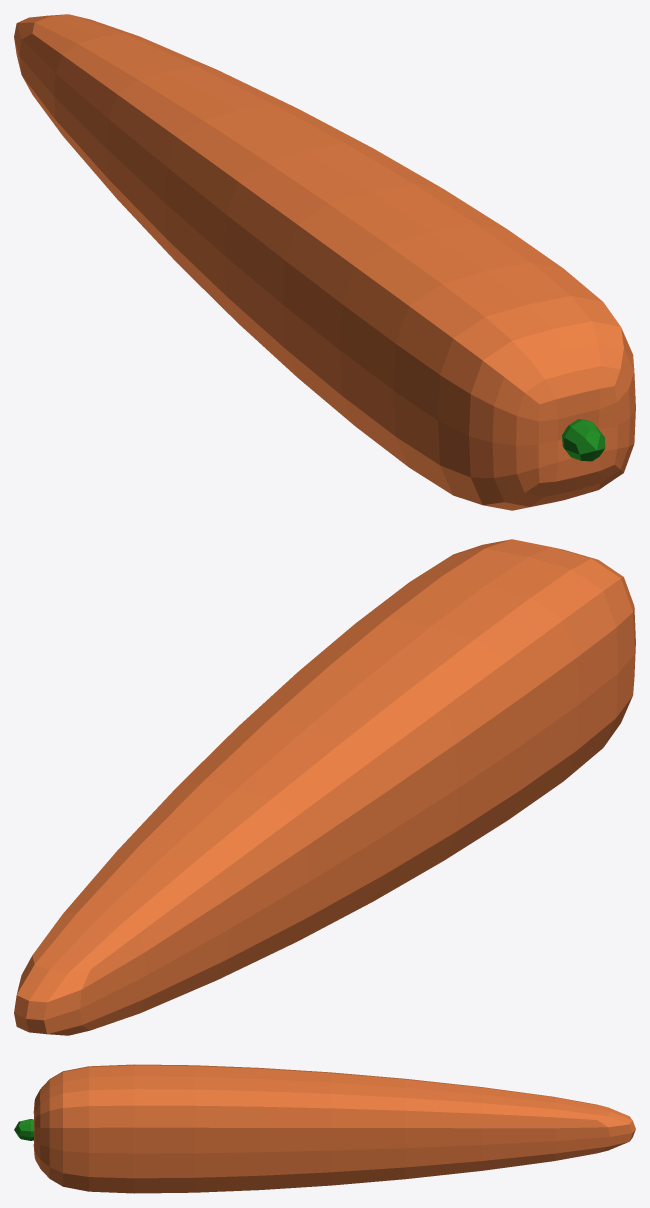
Rendered from Carrot.fbx.
3 views of the same model, one above another, from view 1: azimuth 30°, elevation 25°; view 2: azimuth 150°, elevation 25°; view 3: azimuth 270°, elevation 25° (orthographic). The views are drawn at different scales.
Parts seen in each view (by area): view 1: Cube, Cylinder; view 2: Cube; view 3: Cube, Cylinder.
Part boxes in pixels (x1,y1,x2,y2): Cube: (14, 14, 635, 510); Cylinder: (562, 419, 605, 461); Cube: (14, 539, 635, 1035); Cube: (33, 1064, 635, 1193); Cylinder: (14, 1119, 34, 1140).
Bounding box in the file's own units: 199 × 199 × 1061.
